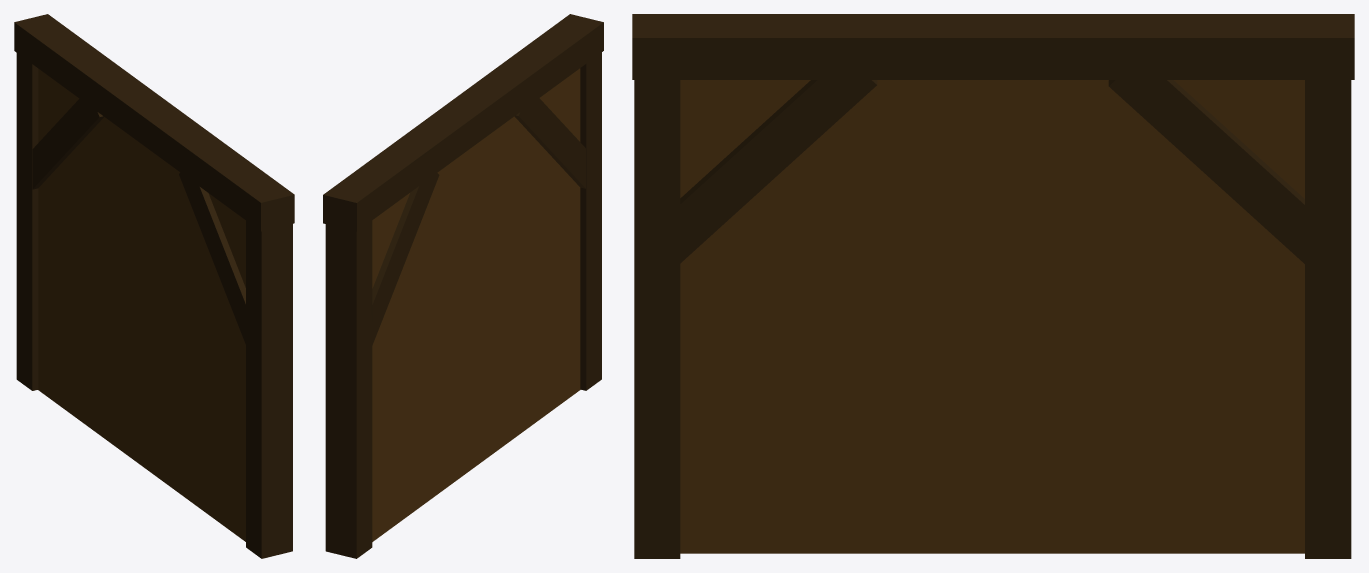
The model's file is Inn_wall_full.fbx.
3 views of the same model, side by side, from view 1: azimuth 30°, elevation 25°; view 2: azimuth 150°, elevation 25°; view 3: azimuth 270°, elevation 25° (orthographic). The views are drawn at different scales.
Parts seen in each view (by area): view 1: Cube.259; view 2: Cube.259; view 3: Cube.259.
Part boxes in pixels (x1,y1,x2,y2): Cube.259: [14, 14, 294, 558]; Cube.259: [323, 14, 603, 558]; Cube.259: [632, 14, 1354, 558].
Size of the model in its own units: 22.83 by 231 by 289.
Materials: 1 (1 with a texture image).
